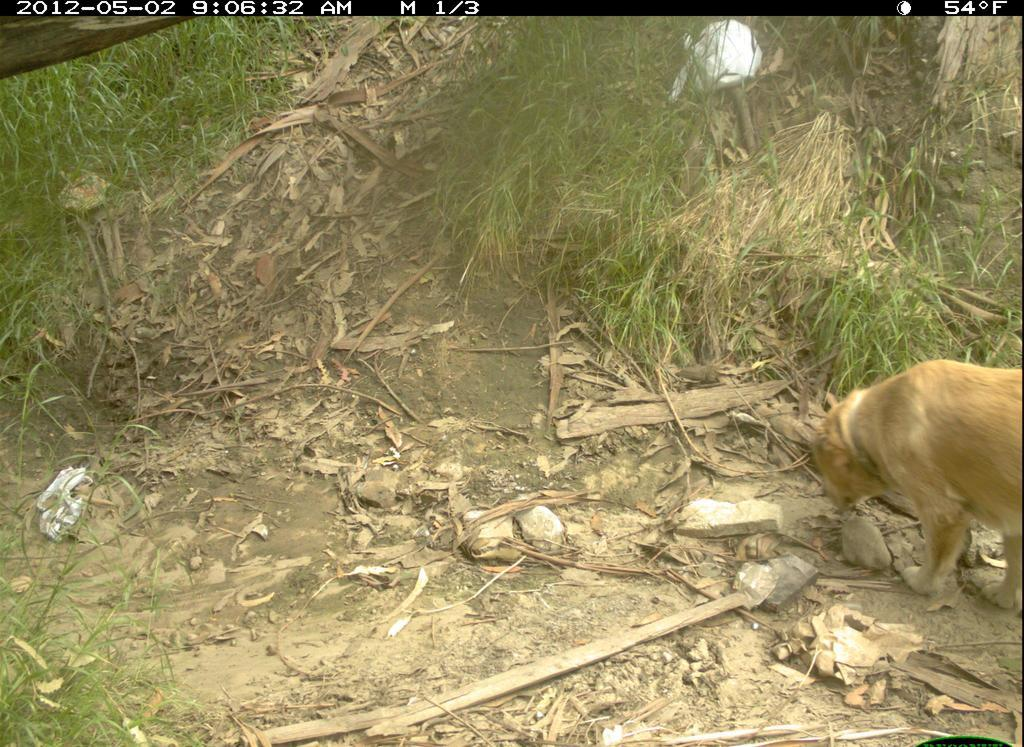dog: (795, 356, 1024, 617)
